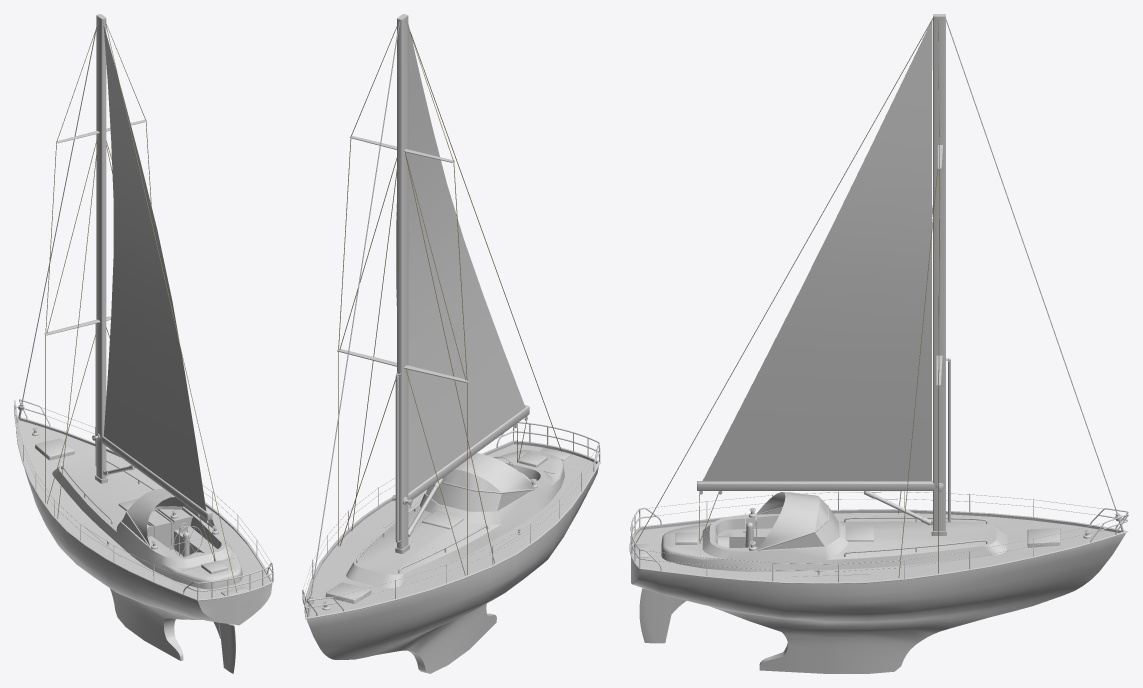
File: SailingYACHT+A01.fbx
3 views of the same model, side by side, from view 1: azimuth 30°, elevation 25°; view 2: azimuth 150°, elevation 25°; view 3: azimuth 270°, elevation 25° (orthographic). The views are drawn at different scales.
Parts seen in each view (by area): view 1: SailingYACHT+A01, SailingYACHT+A01.002, SailingYACHT+A01.001, SailingYACHT+A01.003, SailingYACHT+A01.005; view 2: SailingYACHT+A01, SailingYACHT+A01.002, SailingYACHT+A01.001, SailingYACHT+A01.003, SailingYACHT+A01.005; view 3: SailingYACHT+A01, SailingYACHT+A01.002, SailingYACHT+A01.003, SailingYACHT+A01.005, SailingYACHT+A01.001.
Boxes of the visible parts, box(x1,y1,x2,y2) form: SailingYACHT+A01: box(16, 14, 273, 673); SailingYACHT+A01.002: box(103, 23, 206, 511); SailingYACHT+A01.001: box(45, 20, 237, 592); SailingYACHT+A01.003: box(32, 427, 248, 595); SailingYACHT+A01.005: box(14, 399, 273, 599); SailingYACHT+A01: box(304, 14, 600, 673); SailingYACHT+A01.002: box(396, 24, 525, 493); SailingYACHT+A01.001: box(338, 20, 561, 575); SailingYACHT+A01.003: box(322, 416, 571, 610); SailingYACHT+A01.005: box(302, 422, 600, 615); SailingYACHT+A01: box(629, 14, 1128, 673); SailingYACHT+A01.002: box(702, 21, 932, 481); SailingYACHT+A01.003: box(634, 491, 1091, 577); SailingYACHT+A01.005: box(630, 491, 1128, 582); SailingYACHT+A01.001: box(632, 18, 940, 577).
Size of the model in its own units: 4.66 by 19.39 by 13.4.
